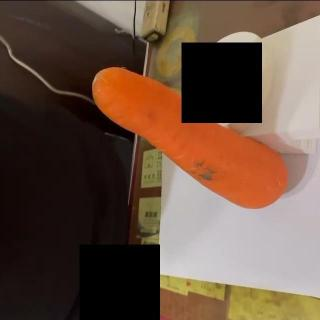carrot: (90, 66, 292, 210)
